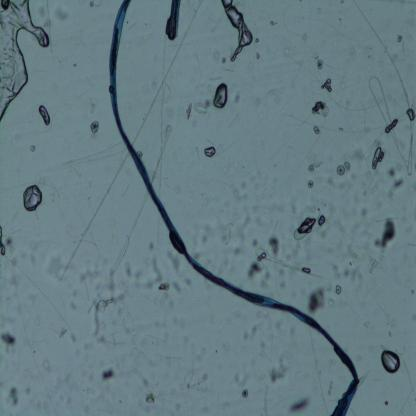Air bubble: (0, 0, 49, 124), (219, 0, 254, 63), (22, 185, 43, 212), (211, 82, 229, 110), (381, 349, 401, 374), (39, 106, 50, 126), (204, 145, 217, 158)
Background material: (329, 199, 361, 261), (91, 290, 124, 338), (180, 352, 210, 395), (217, 217, 249, 257), (233, 175, 274, 206), (229, 314, 270, 340), (368, 214, 398, 248), (186, 221, 216, 251), (145, 244, 163, 294), (330, 260, 362, 284), (305, 284, 327, 317), (269, 355, 293, 384), (4, 236, 22, 269), (0, 273, 20, 302), (226, 363, 252, 385), (286, 394, 314, 414), (55, 324, 79, 346), (386, 167, 404, 194), (131, 363, 149, 390), (48, 251, 64, 279), (166, 249, 182, 274), (49, 0, 67, 22), (246, 258, 262, 282), (370, 147, 386, 171), (0, 330, 18, 350), (68, 283, 82, 308), (0, 224, 9, 261), (336, 160, 353, 179), (310, 101, 330, 117), (8, 382, 20, 406), (99, 366, 114, 384), (284, 201, 298, 220), (156, 280, 172, 296), (266, 238, 280, 256), (40, 356, 52, 376), (321, 75, 333, 94), (280, 40, 292, 59), (306, 158, 321, 173), (89, 117, 99, 137), (232, 90, 243, 107), (369, 258, 379, 275), (266, 17, 279, 30), (92, 334, 107, 345), (172, 282, 183, 296), (300, 29, 311, 43), (397, 34, 406, 51), (89, 92, 96, 113), (26, 140, 37, 153), (145, 392, 156, 405), (316, 56, 326, 70), (306, 177, 316, 191), (240, 387, 250, 399), (311, 125, 320, 137), (363, 318, 372, 330), (317, 215, 326, 226), (334, 284, 342, 296), (336, 124, 346, 133), (71, 60, 79, 69), (84, 352, 92, 361), (255, 50, 261, 61), (89, 0, 94, 10), (383, 398, 390, 405), (255, 36, 259, 47)
Cotton: (111, 0, 362, 412)
Glass filter fibre: (132, 0, 204, 146), (355, 1, 415, 175), (60, 148, 128, 281), (92, 190, 150, 306), (368, 75, 406, 168), (256, 247, 322, 278), (150, 123, 172, 184), (292, 217, 320, 240), (261, 384, 272, 416), (194, 101, 208, 115)
